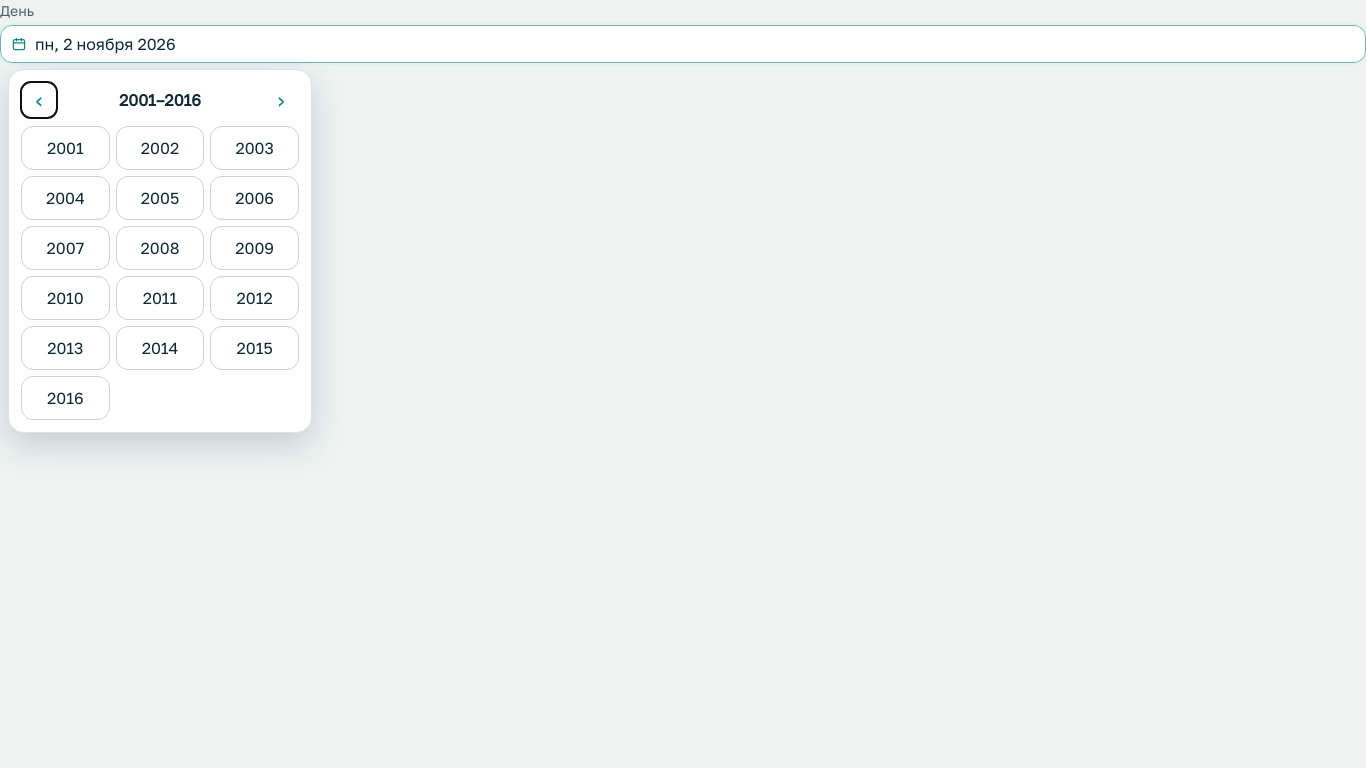
Test case: дата: по-русски, свой календарь вместо системного — месяц, год, день; «Сегодня» и «Очистить»
This screenshot has width=1366, height=768.
Earlier steps of the test are not shown.
Click the button named "Раньше": click(39, 100) [21, 82, 57, 118]
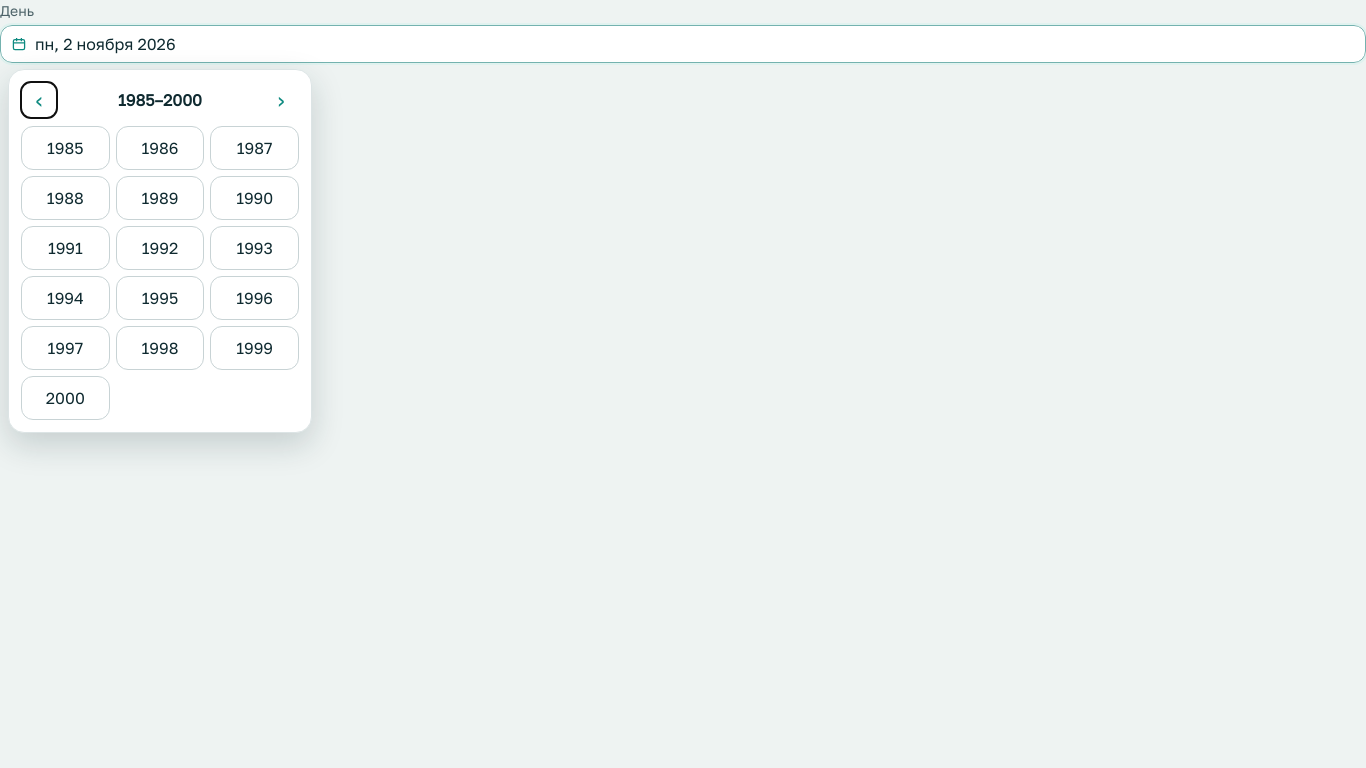
Click the button "1985": click(65, 148) [21, 126, 110, 170]
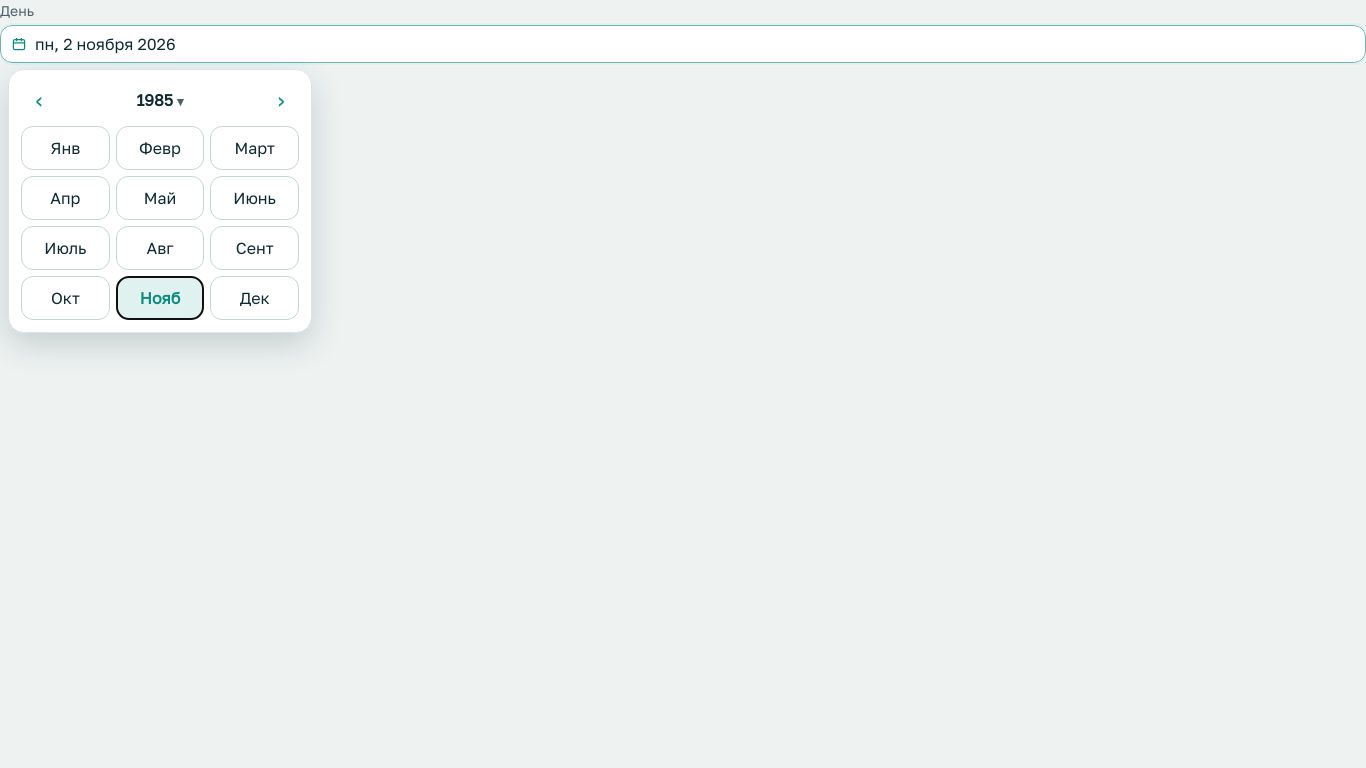
Click the button "март": click(255, 148) [210, 126, 299, 170]
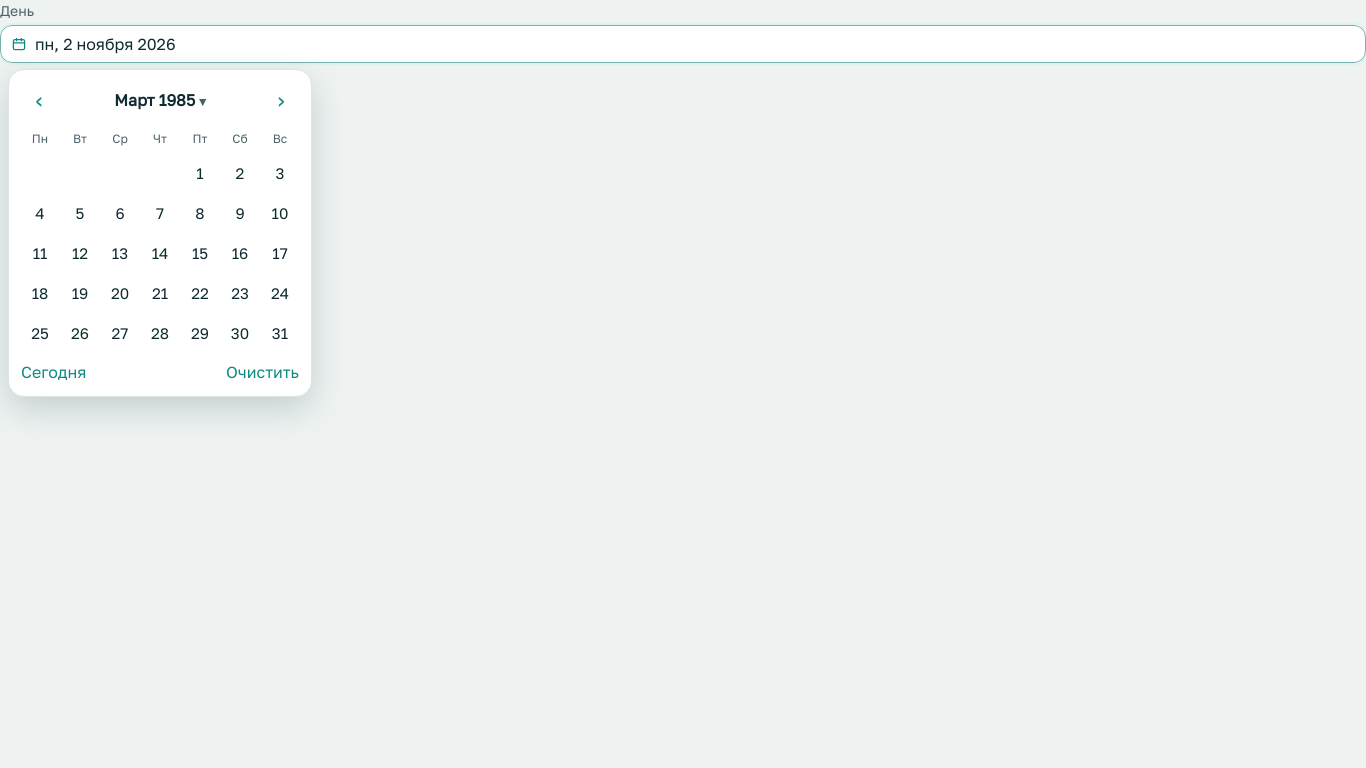
Click the button "14": click(160, 253) [141, 234, 179, 272]
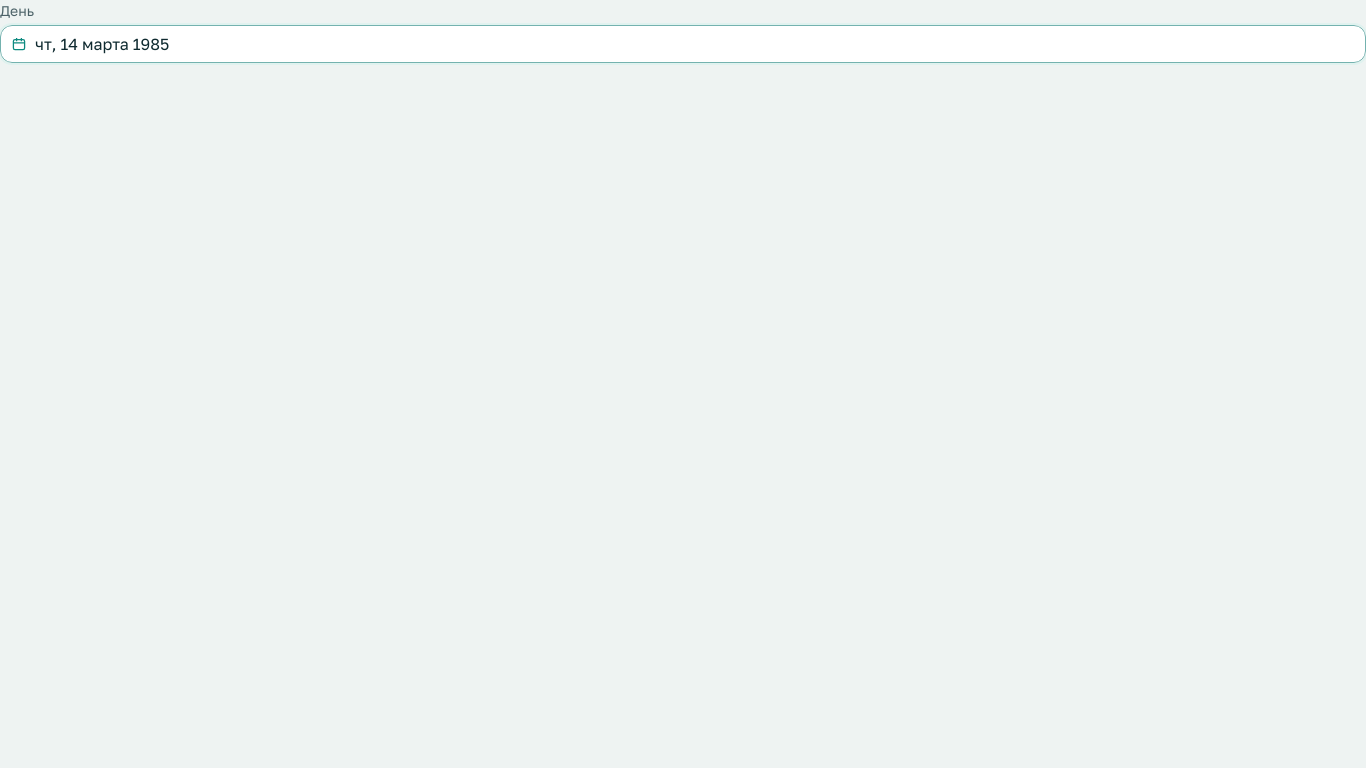
Result: the button named "День" reads "чт, 14 марта 1985"
Click the button named "День": click(102, 44) [0, 25, 1365, 63]
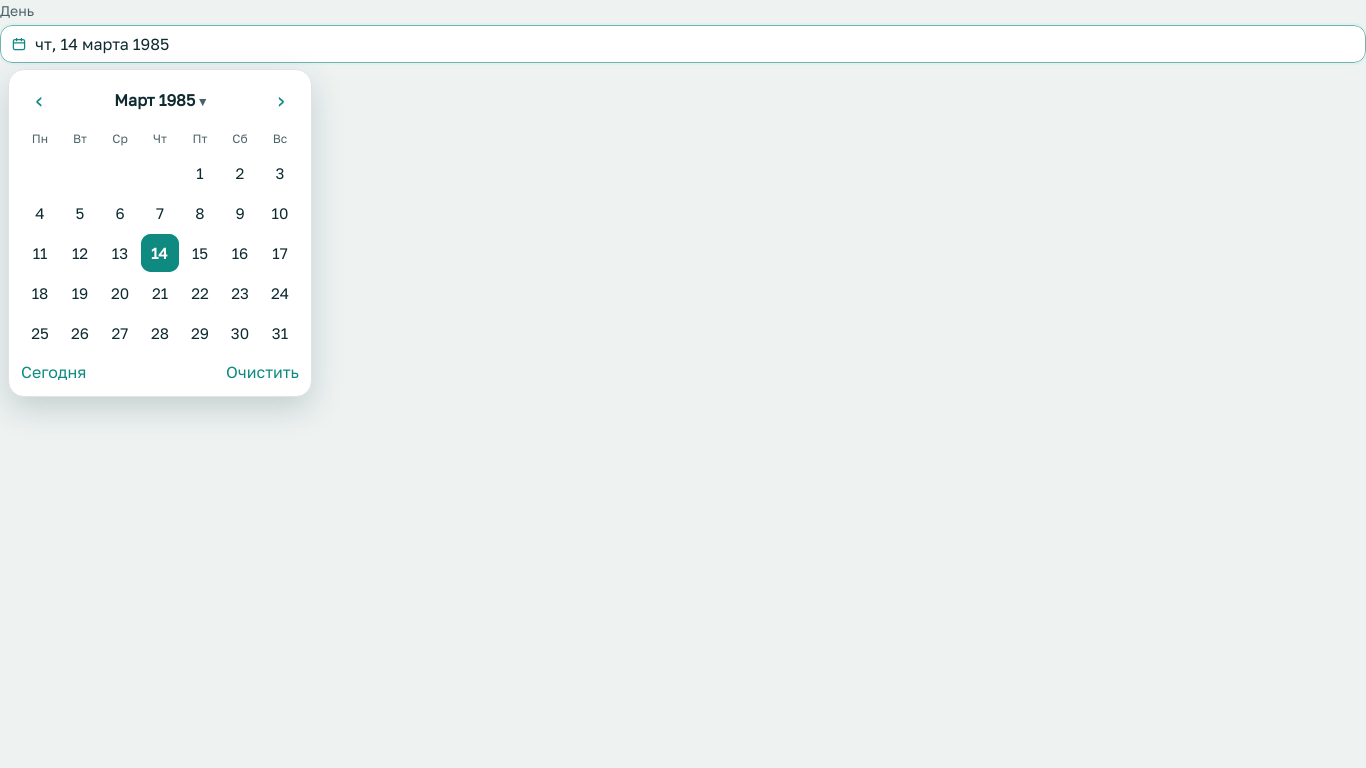
Result: the button "Март 1985 ▾" is shown at [104, 84, 216, 116]
Press Escape
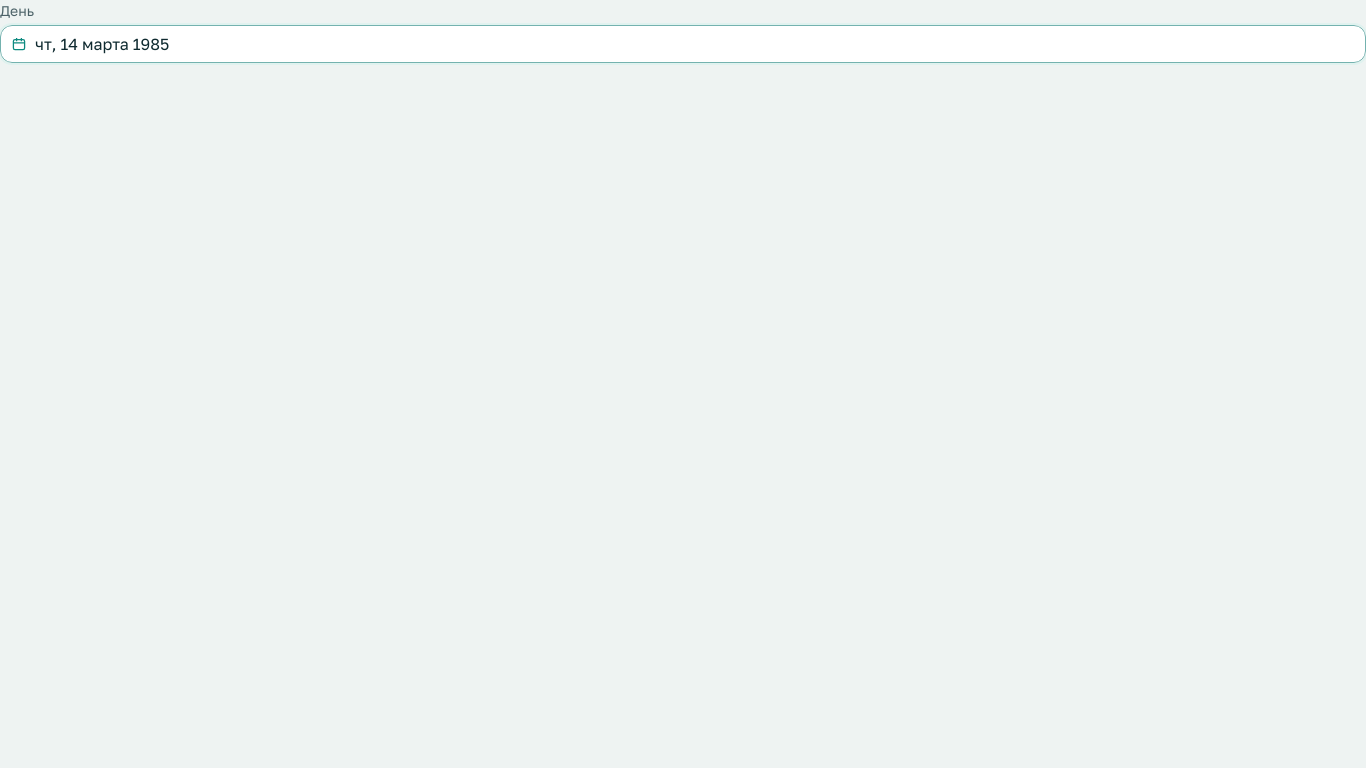
Result: the dialog is gone
